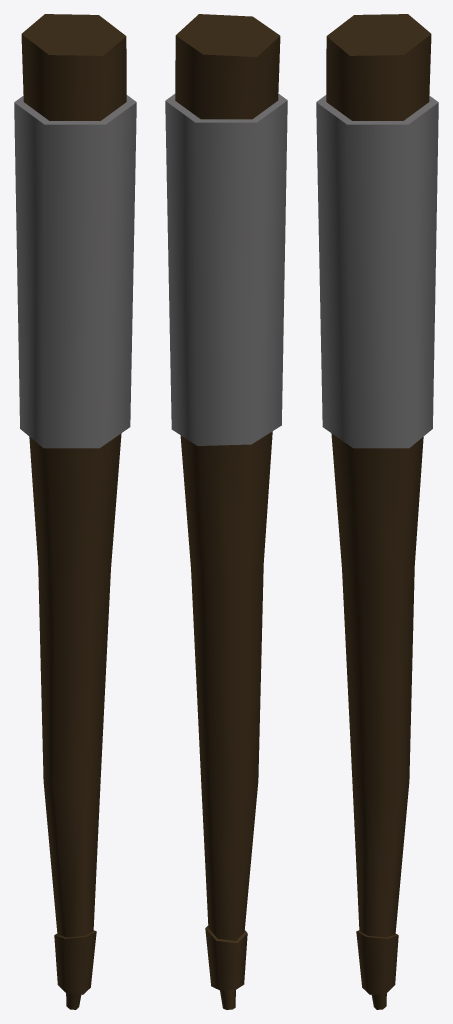
File: club.glb
3 views of the same model, side by side, from view 1: azimuth 30°, elevation 25°; view 2: azimuth 210°, elevation 25°; view 3: azimuth 330°, elevation 25° (orthographic).
Parts seen in each view (by area): view 1: 1H - Club - mastahcez; view 2: 1H - Club - mastahcez; view 3: 1H - Club - mastahcez.
Boxes of the visible parts, left/top/right/bottom form: 1H - Club - mastahcez: left=14, top=14, right=136, bottom=1009; 1H - Club - mastahcez: left=165, top=14, right=287, bottom=1009; 1H - Club - mastahcez: left=316, top=14, right=438, bottom=1009.
Size of the model in its own units: 0.0712 by 0.7177 by 0.0815.
